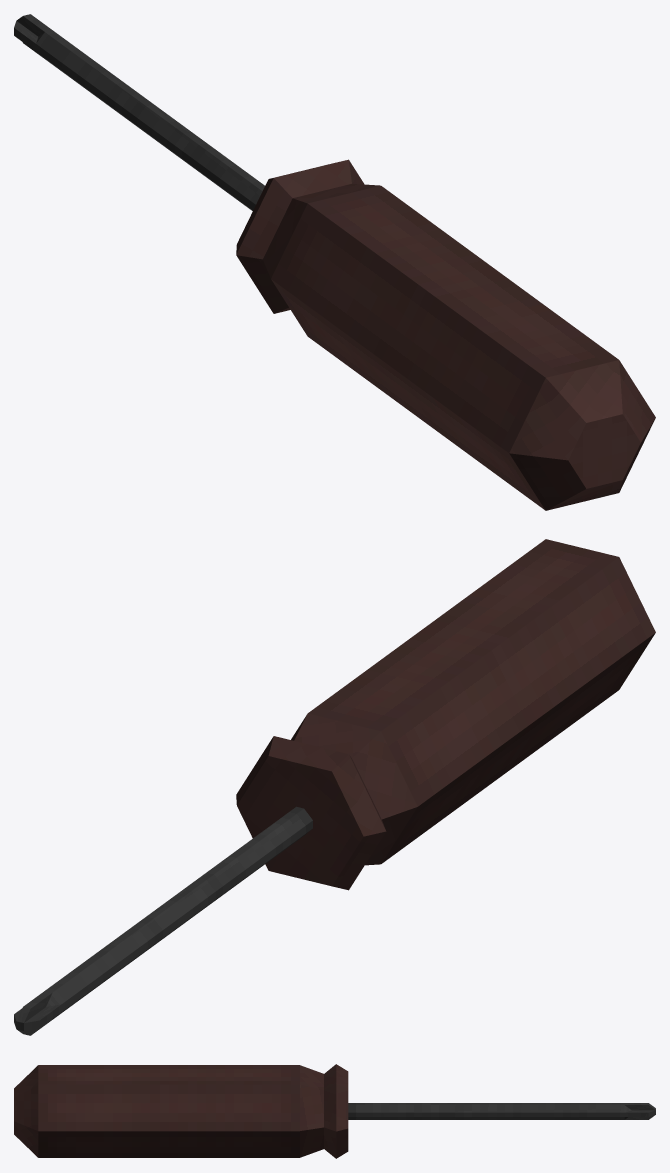
Rendered from screwdriver_mp_2.glb.
3 views of the same model, one above another, from view 1: azimuth 30°, elevation 25°; view 2: azimuth 150°, elevation 25°; view 3: azimuth 270°, elevation 25° (orthographic). The views are drawn at different scales.
Parts seen in each view (by area): view 1: screwdriver_mp_2; view 2: screwdriver_mp_2; view 3: screwdriver_mp_2.
Boxes of the visible parts, box(x1,y1,x2,y2) form: screwdriver_mp_2: box(14, 14, 655, 510); screwdriver_mp_2: box(14, 539, 655, 1035); screwdriver_mp_2: box(14, 1064, 655, 1158).
Bounding box in the file's own units: 0.0393 × 0.034 × 0.265.
Materials: 1 (1 with a texture image).
